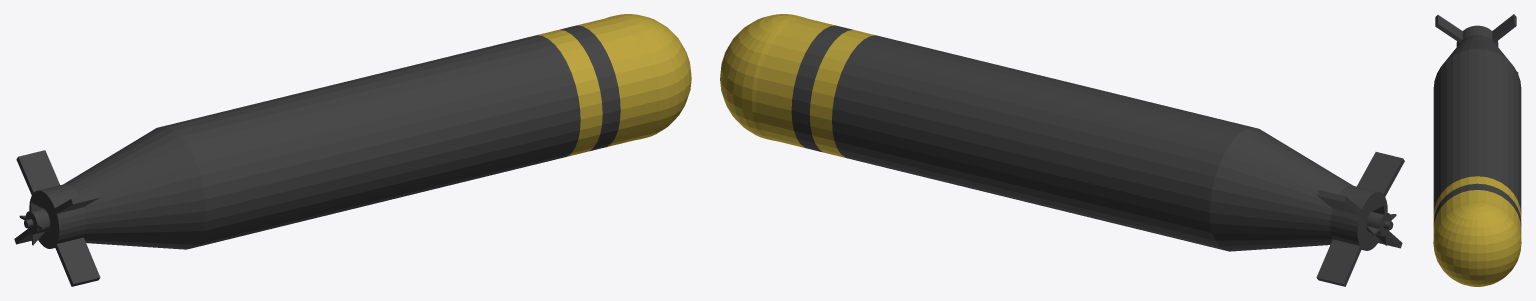
Rendered from torpedo.fbx.
3 renders of one model, left to right at view 1: azimuth 30°, elevation 25°; view 2: azimuth 150°, elevation 25°; view 3: azimuth 270°, elevation 25°, orthographic. The views are drawn at different scales.
Visible parts, largest first — view 1: Sphere; view 2: Sphere; view 3: Sphere.
Part boxes in pixels (box(x1,y1,x2,y2)): Sphere: box(14, 14, 691, 286); Sphere: box(720, 14, 1404, 286); Sphere: box(1433, 14, 1521, 286).
Size of the model in its own units: 1205 by 201 by 201.
